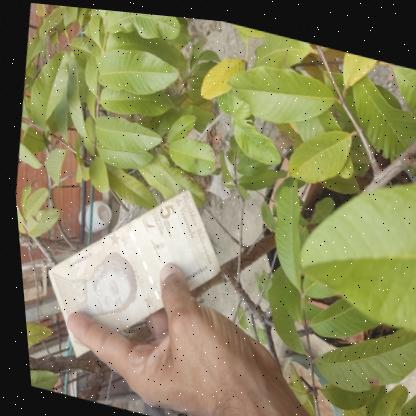five-front-vef: (23, 151, 236, 391)
